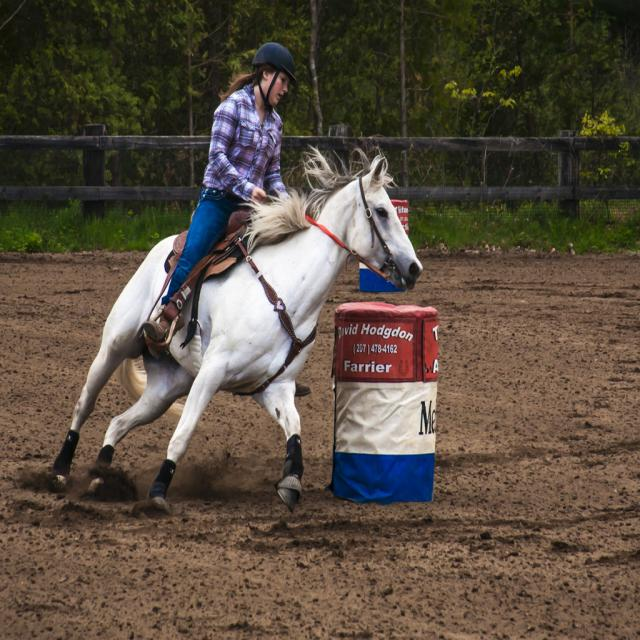Horse: (52, 122, 424, 514)
